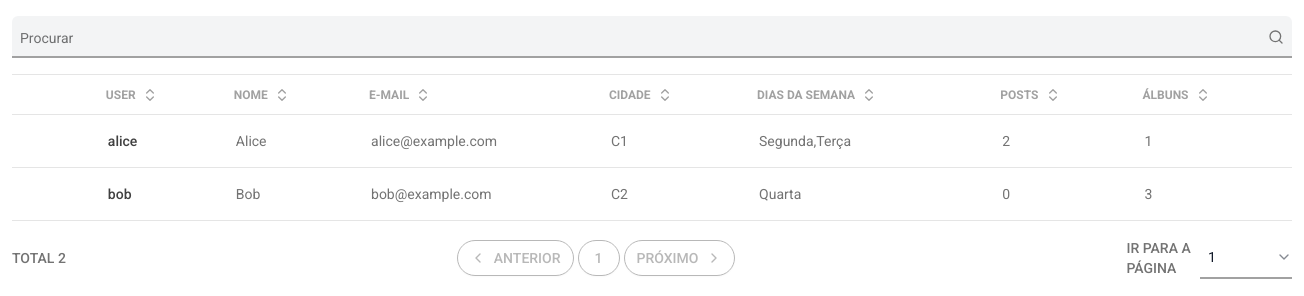
Test case: UsersTable › filtra nomes via SearchInput
The image size is (1304, 296).
Type "Bob" into the field labelled "Procurar".
click(652, 37); type("Bob")  # box top-left (12, 16), bottom-right (1292, 58)
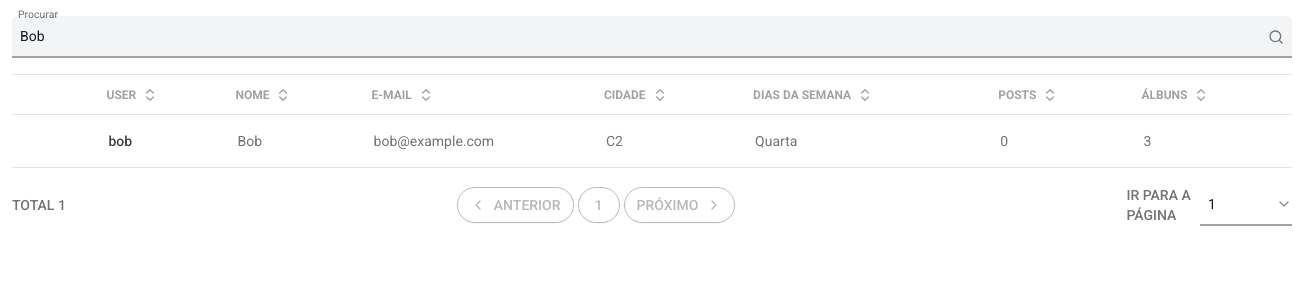
Expected: the text "Bob" is shown, top-left (237, 133), bottom-right (262, 149)
Now the text "alice" is gone
